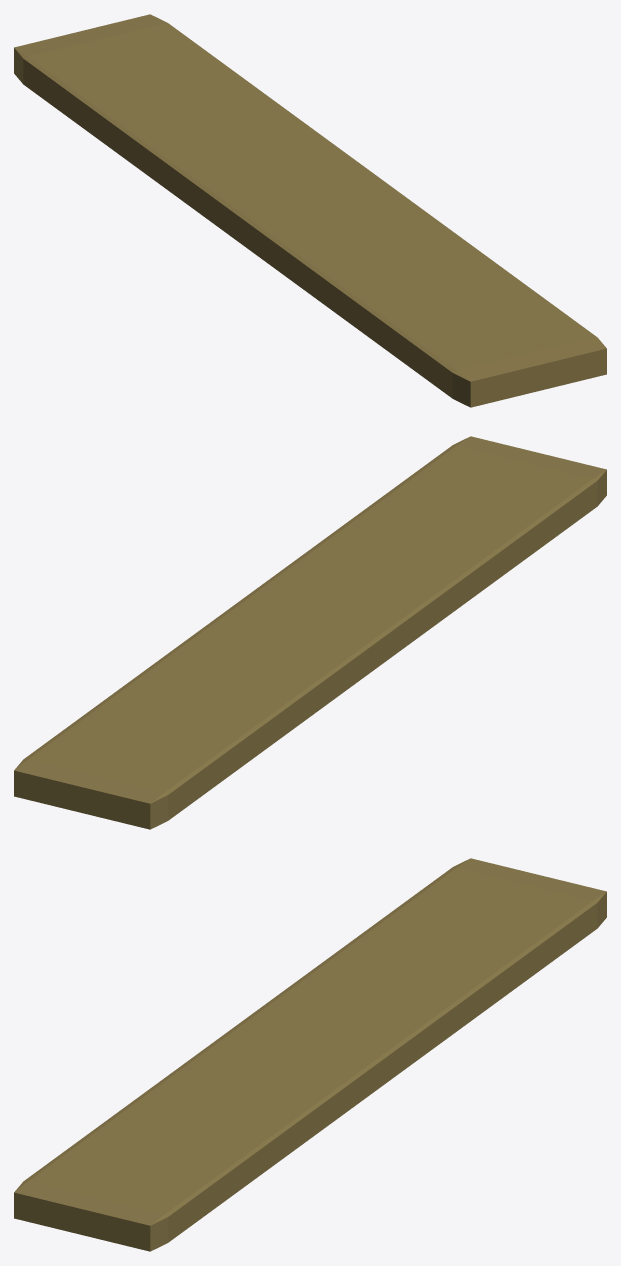
The model's file is BeveledWoodPlank.fbx.
3 renders of one model, top to bottom at view 1: azimuth 30°, elevation 25°; view 2: azimuth 150°, elevation 25°; view 3: azimuth 330°, elevation 25°, orthographic.
Visible parts, largest first — view 1: BeveledWoodPlank; view 2: BeveledWoodPlank; view 3: BeveledWoodPlank.
Boxes of the visible parts, bbox=[...] form: BeveledWoodPlank: bbox=[14, 14, 606, 407]; BeveledWoodPlank: bbox=[14, 436, 606, 829]; BeveledWoodPlank: bbox=[14, 858, 606, 1251].
Size of the model in its own units: 110 by 20 by 600.
